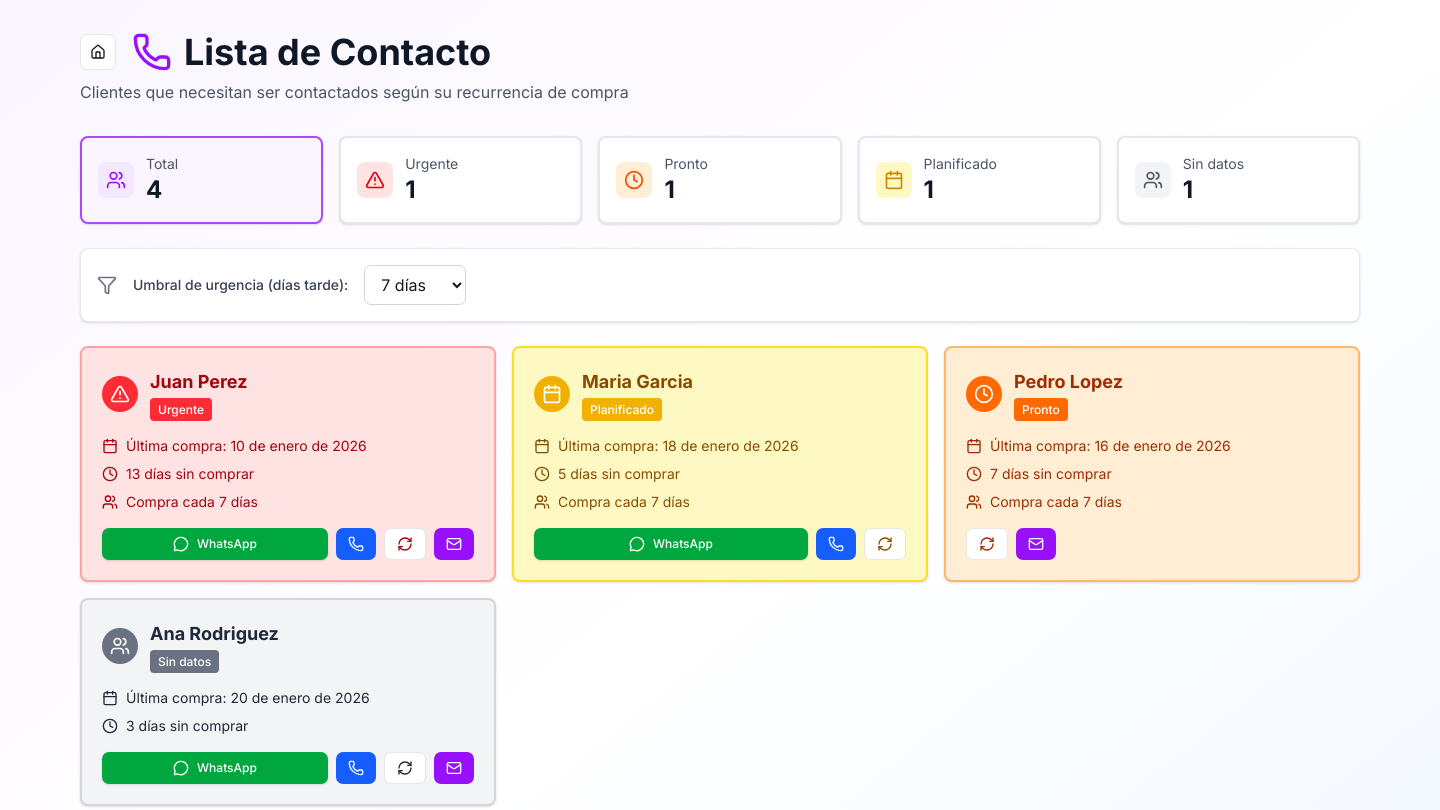
Test: ContactosPage › Urgency Filter › should show all contacts when clicking Total card
The width and height of the screenshot is (1440, 810).
Check: the heading "Juan Perez" is shown, box [150, 368, 248, 396]
# First filter to high
Click the text "Urgente" at (461, 180), box [339, 136, 582, 224]
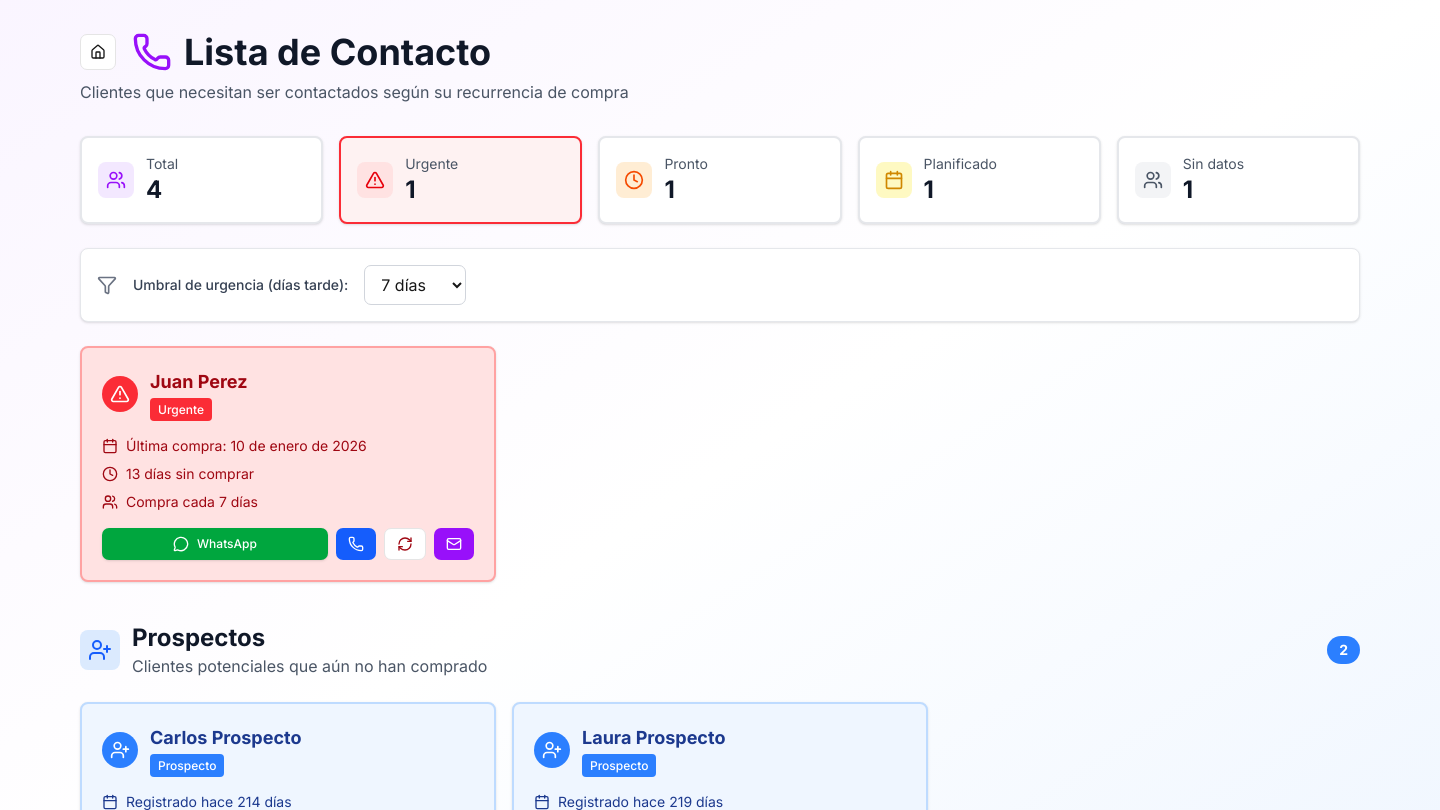
Check: the heading "Maria Garcia" is gone
# Then click on Total
Click the text "Total" at (202, 180), box [80, 136, 323, 224]
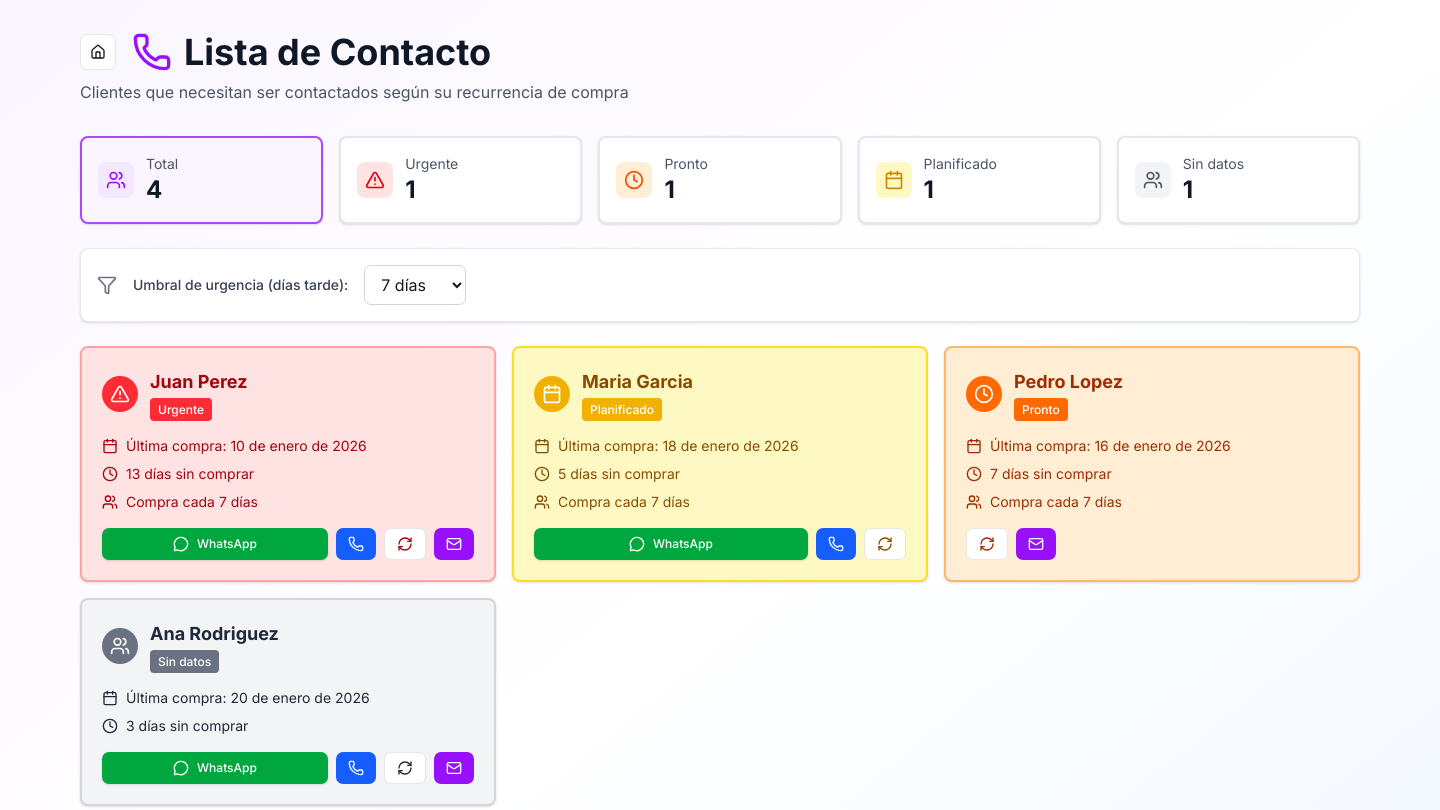
Check: the heading "Juan Perez" is shown, box [150, 368, 248, 396]
Check: the heading "Maria Garcia" is shown, box [582, 368, 693, 396]
